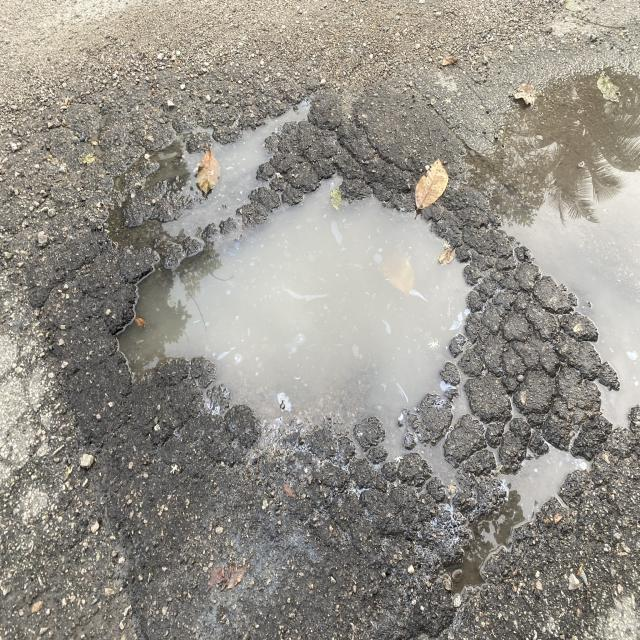Pothole: (65, 114, 572, 520)
